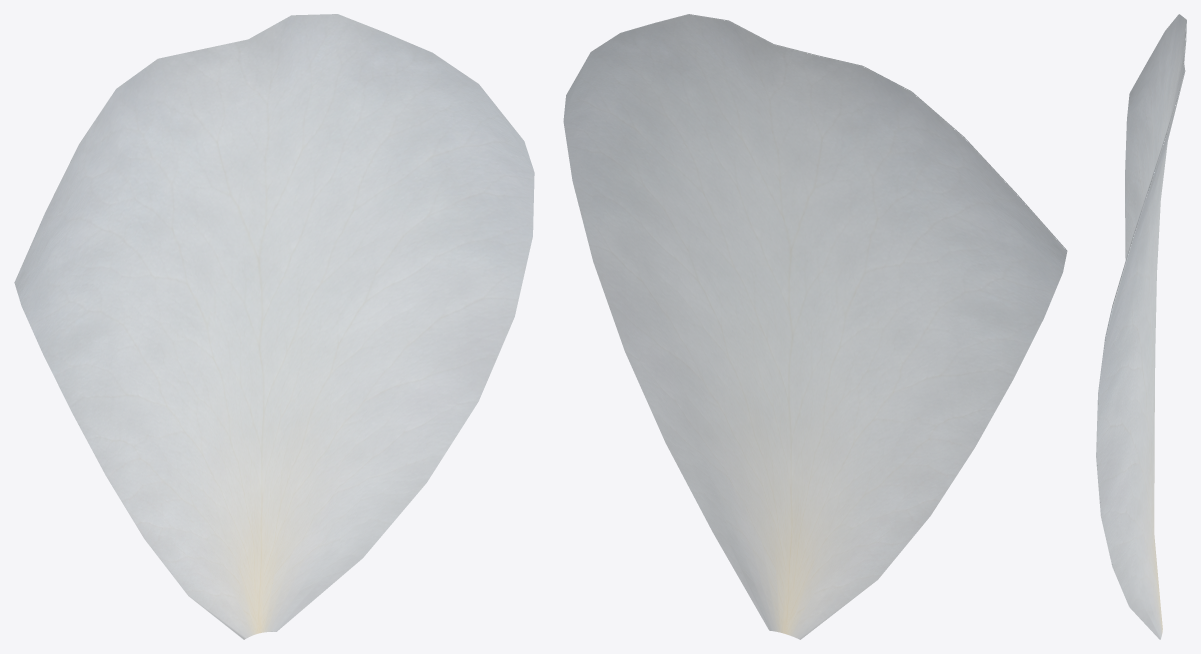
File: outer_03.glb
3 views of the same model, side by side, from view 1: azimuth 30°, elevation 25°; view 2: azimuth 150°, elevation 25°; view 3: azimuth 270°, elevation 25° (orthographic). The views are drawn at different scales.
Visible parts, largest first — view 1: outer_03; view 2: outer_03; view 3: outer_03.
Part boxes in pixels (bbox=[...]): outer_03: bbox=[14, 14, 534, 639]; outer_03: bbox=[563, 14, 1067, 639]; outer_03: bbox=[1096, 14, 1186, 639].
Size of the model in its own units: 0.0799 by 0.0907 by 0.0128.
Materials: 1 (1 with a texture image).
